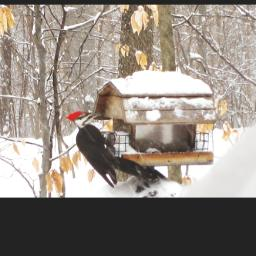Woodpecker: (64, 111, 158, 189)
